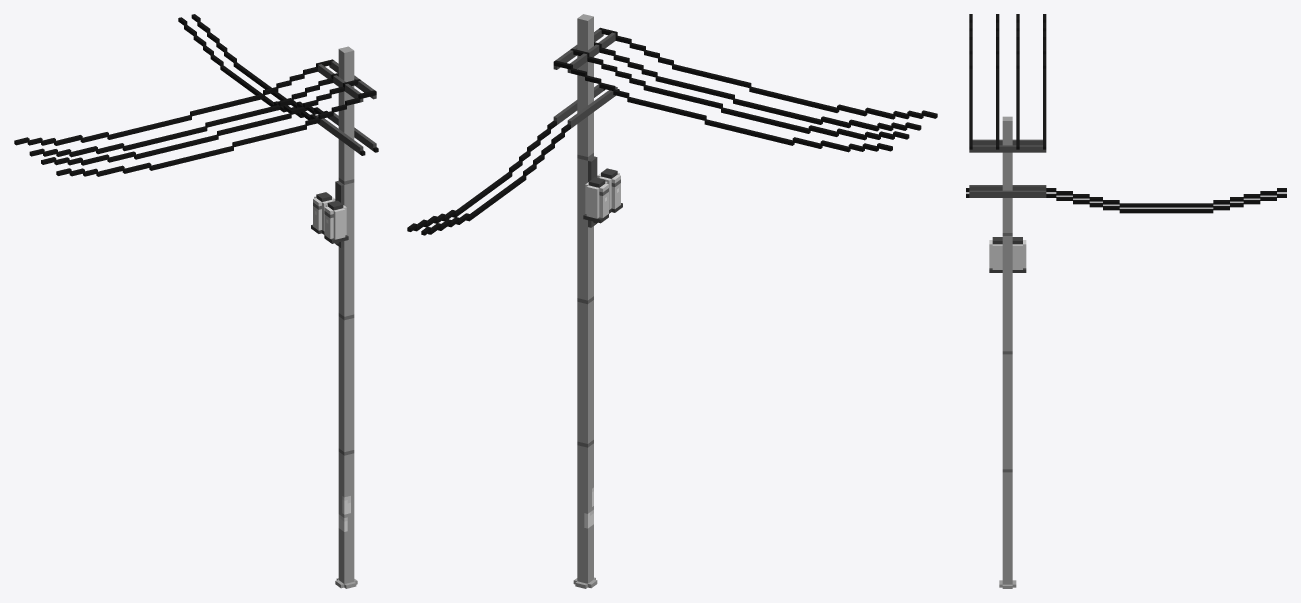
The model's file is poleEight.glb.
3 renders of one model, left to right at view 1: azimuth 30°, elevation 25°; view 2: azimuth 150°, elevation 25°; view 3: azimuth 270°, elevation 25°, orthographic. The views are drawn at different scales.
Parts seen in each view (by area): view 1: ObjObject; view 2: ObjObject; view 3: ObjObject.
Boxes of the visible parts, bbox=[...] form: ObjObject: bbox=[14, 14, 378, 588]; ObjObject: bbox=[407, 14, 937, 588]; ObjObject: bbox=[966, 14, 1286, 588].
Size of the model in its own units: 9.6 by 15.4 by 9.6.
Materials: 1 (1 with a texture image).
